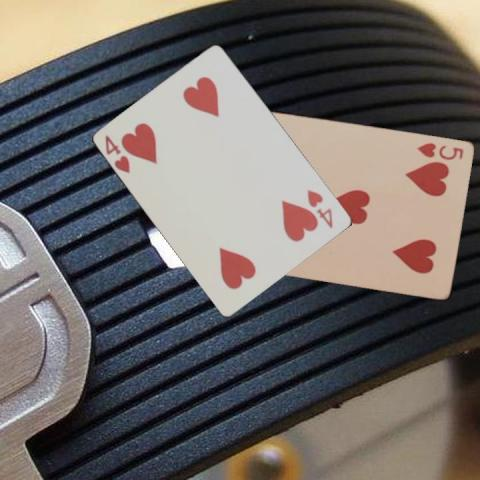4h: (304, 187, 335, 230), (102, 131, 132, 175)
5h: (415, 140, 465, 162)
